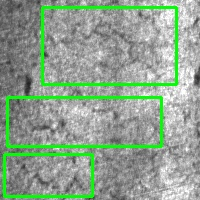crazing: (42, 7, 176, 84), (7, 97, 161, 146), (4, 154, 92, 196)
